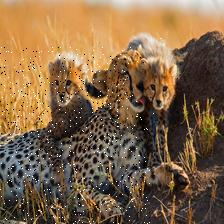Cheetha: (0, 47, 150, 224), (46, 52, 91, 143), (130, 33, 179, 115)
